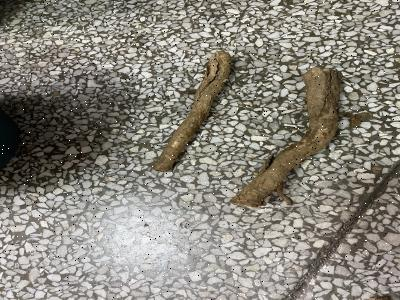Root: (230, 67, 341, 207), (152, 51, 231, 172)
